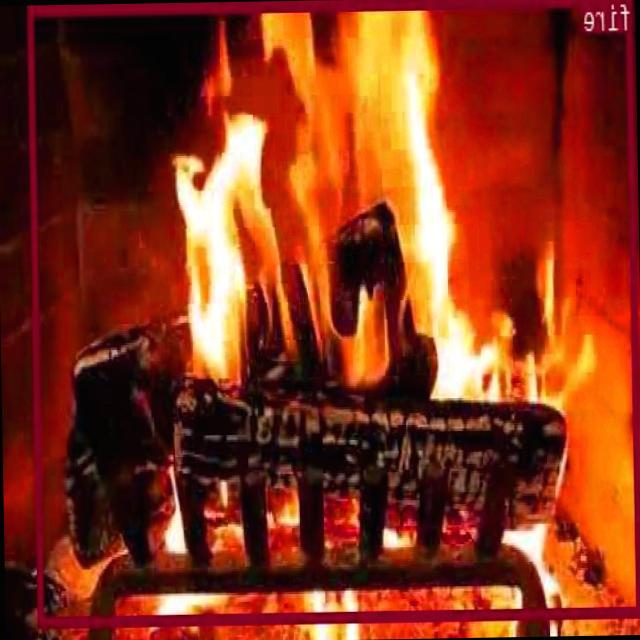fire: (28, 0, 640, 625)
